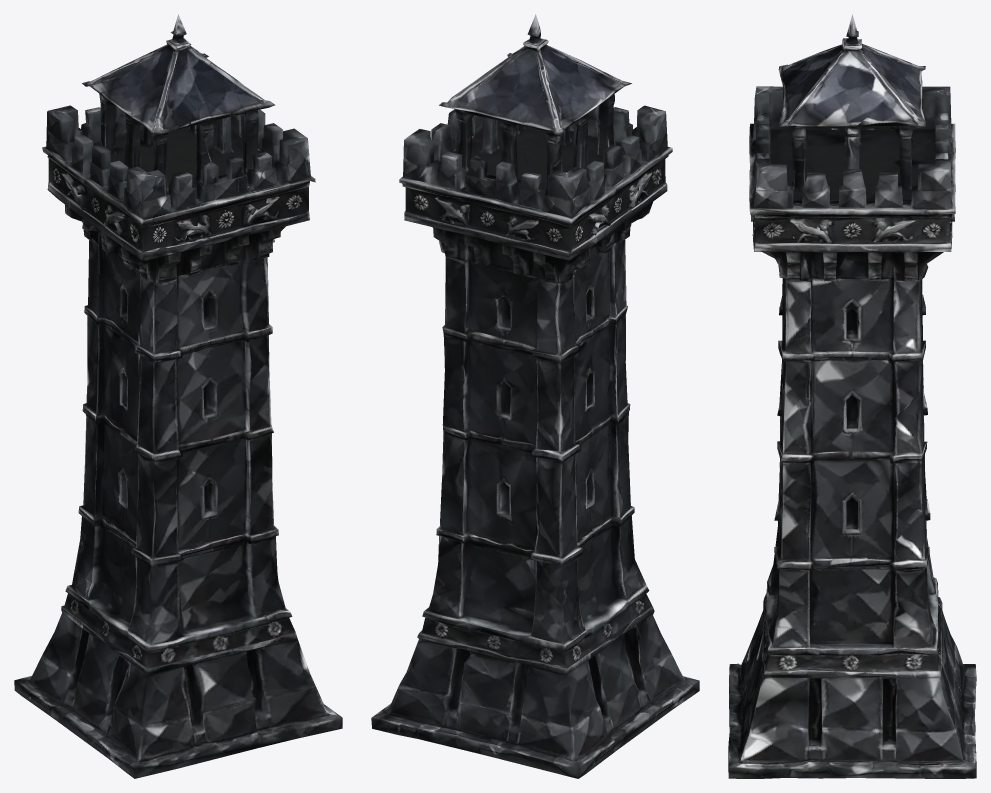
File: castle_tower_tall_diamond_black.glb
The picture shows the model from 3 angles, left to right: view 1: azimuth 30°, elevation 25°; view 2: azimuth 150°, elevation 25°; view 3: azimuth 270°, elevation 25°; orthographic projection. The views are drawn at different scales.
Visible parts, largest first — view 1: tripo_node_e62865c2-2fcd-40df-8553-0bba89f3a9a7; view 2: tripo_node_e62865c2-2fcd-40df-8553-0bba89f3a9a7; view 3: tripo_node_e62865c2-2fcd-40df-8553-0bba89f3a9a7.
Boxes of the visible parts, x1,y1,x2,y2 form: tripo_node_e62865c2-2fcd-40df-8553-0bba89f3a9a7: [14, 14, 342, 778]; tripo_node_e62865c2-2fcd-40df-8553-0bba89f3a9a7: [371, 14, 699, 778]; tripo_node_e62865c2-2fcd-40df-8553-0bba89f3a9a7: [728, 14, 976, 778].
Bounding box in the file's own units: 0.3077 × 0.9808 × 0.3099.
1 material, 1 textured.
